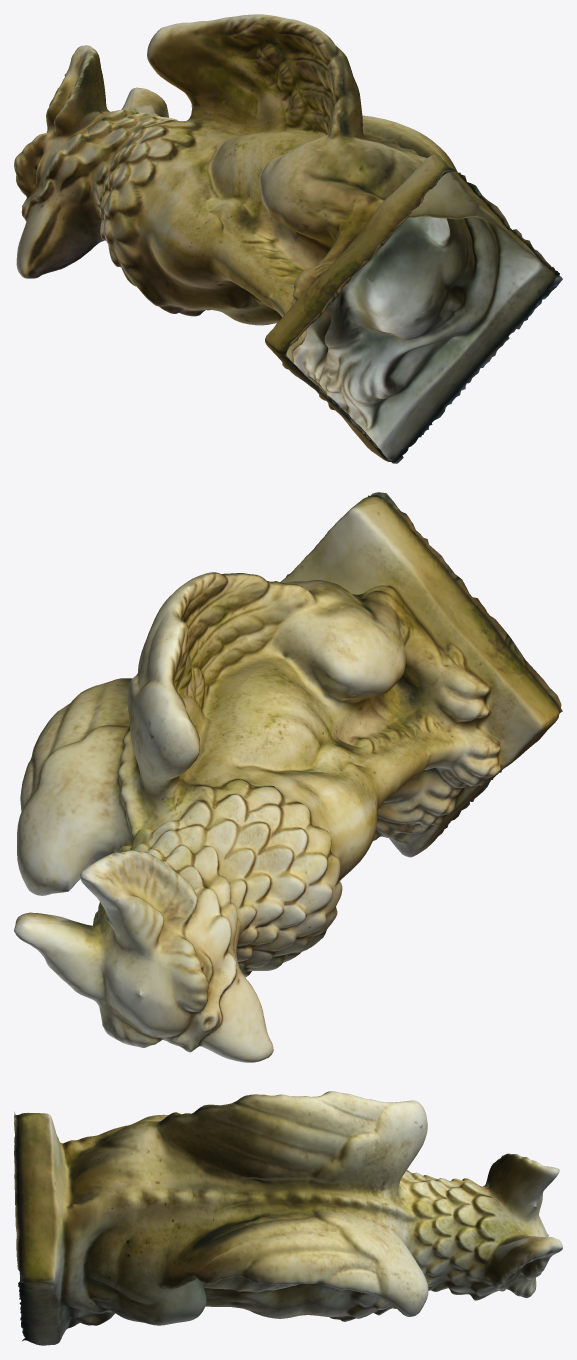
The model's file is griffon_statue.obj.
The picture shows the model from 3 angles, top to bottom: view 1: azimuth 30°, elevation 25°; view 2: azimuth 150°, elevation 25°; view 3: azimuth 270°, elevation 25°; orthographic projection. The views are drawn at different scales.
Size of the model in its own units: 21.7 by 21.56 by 38.88.
Materials: 1 (1 with a texture image).
